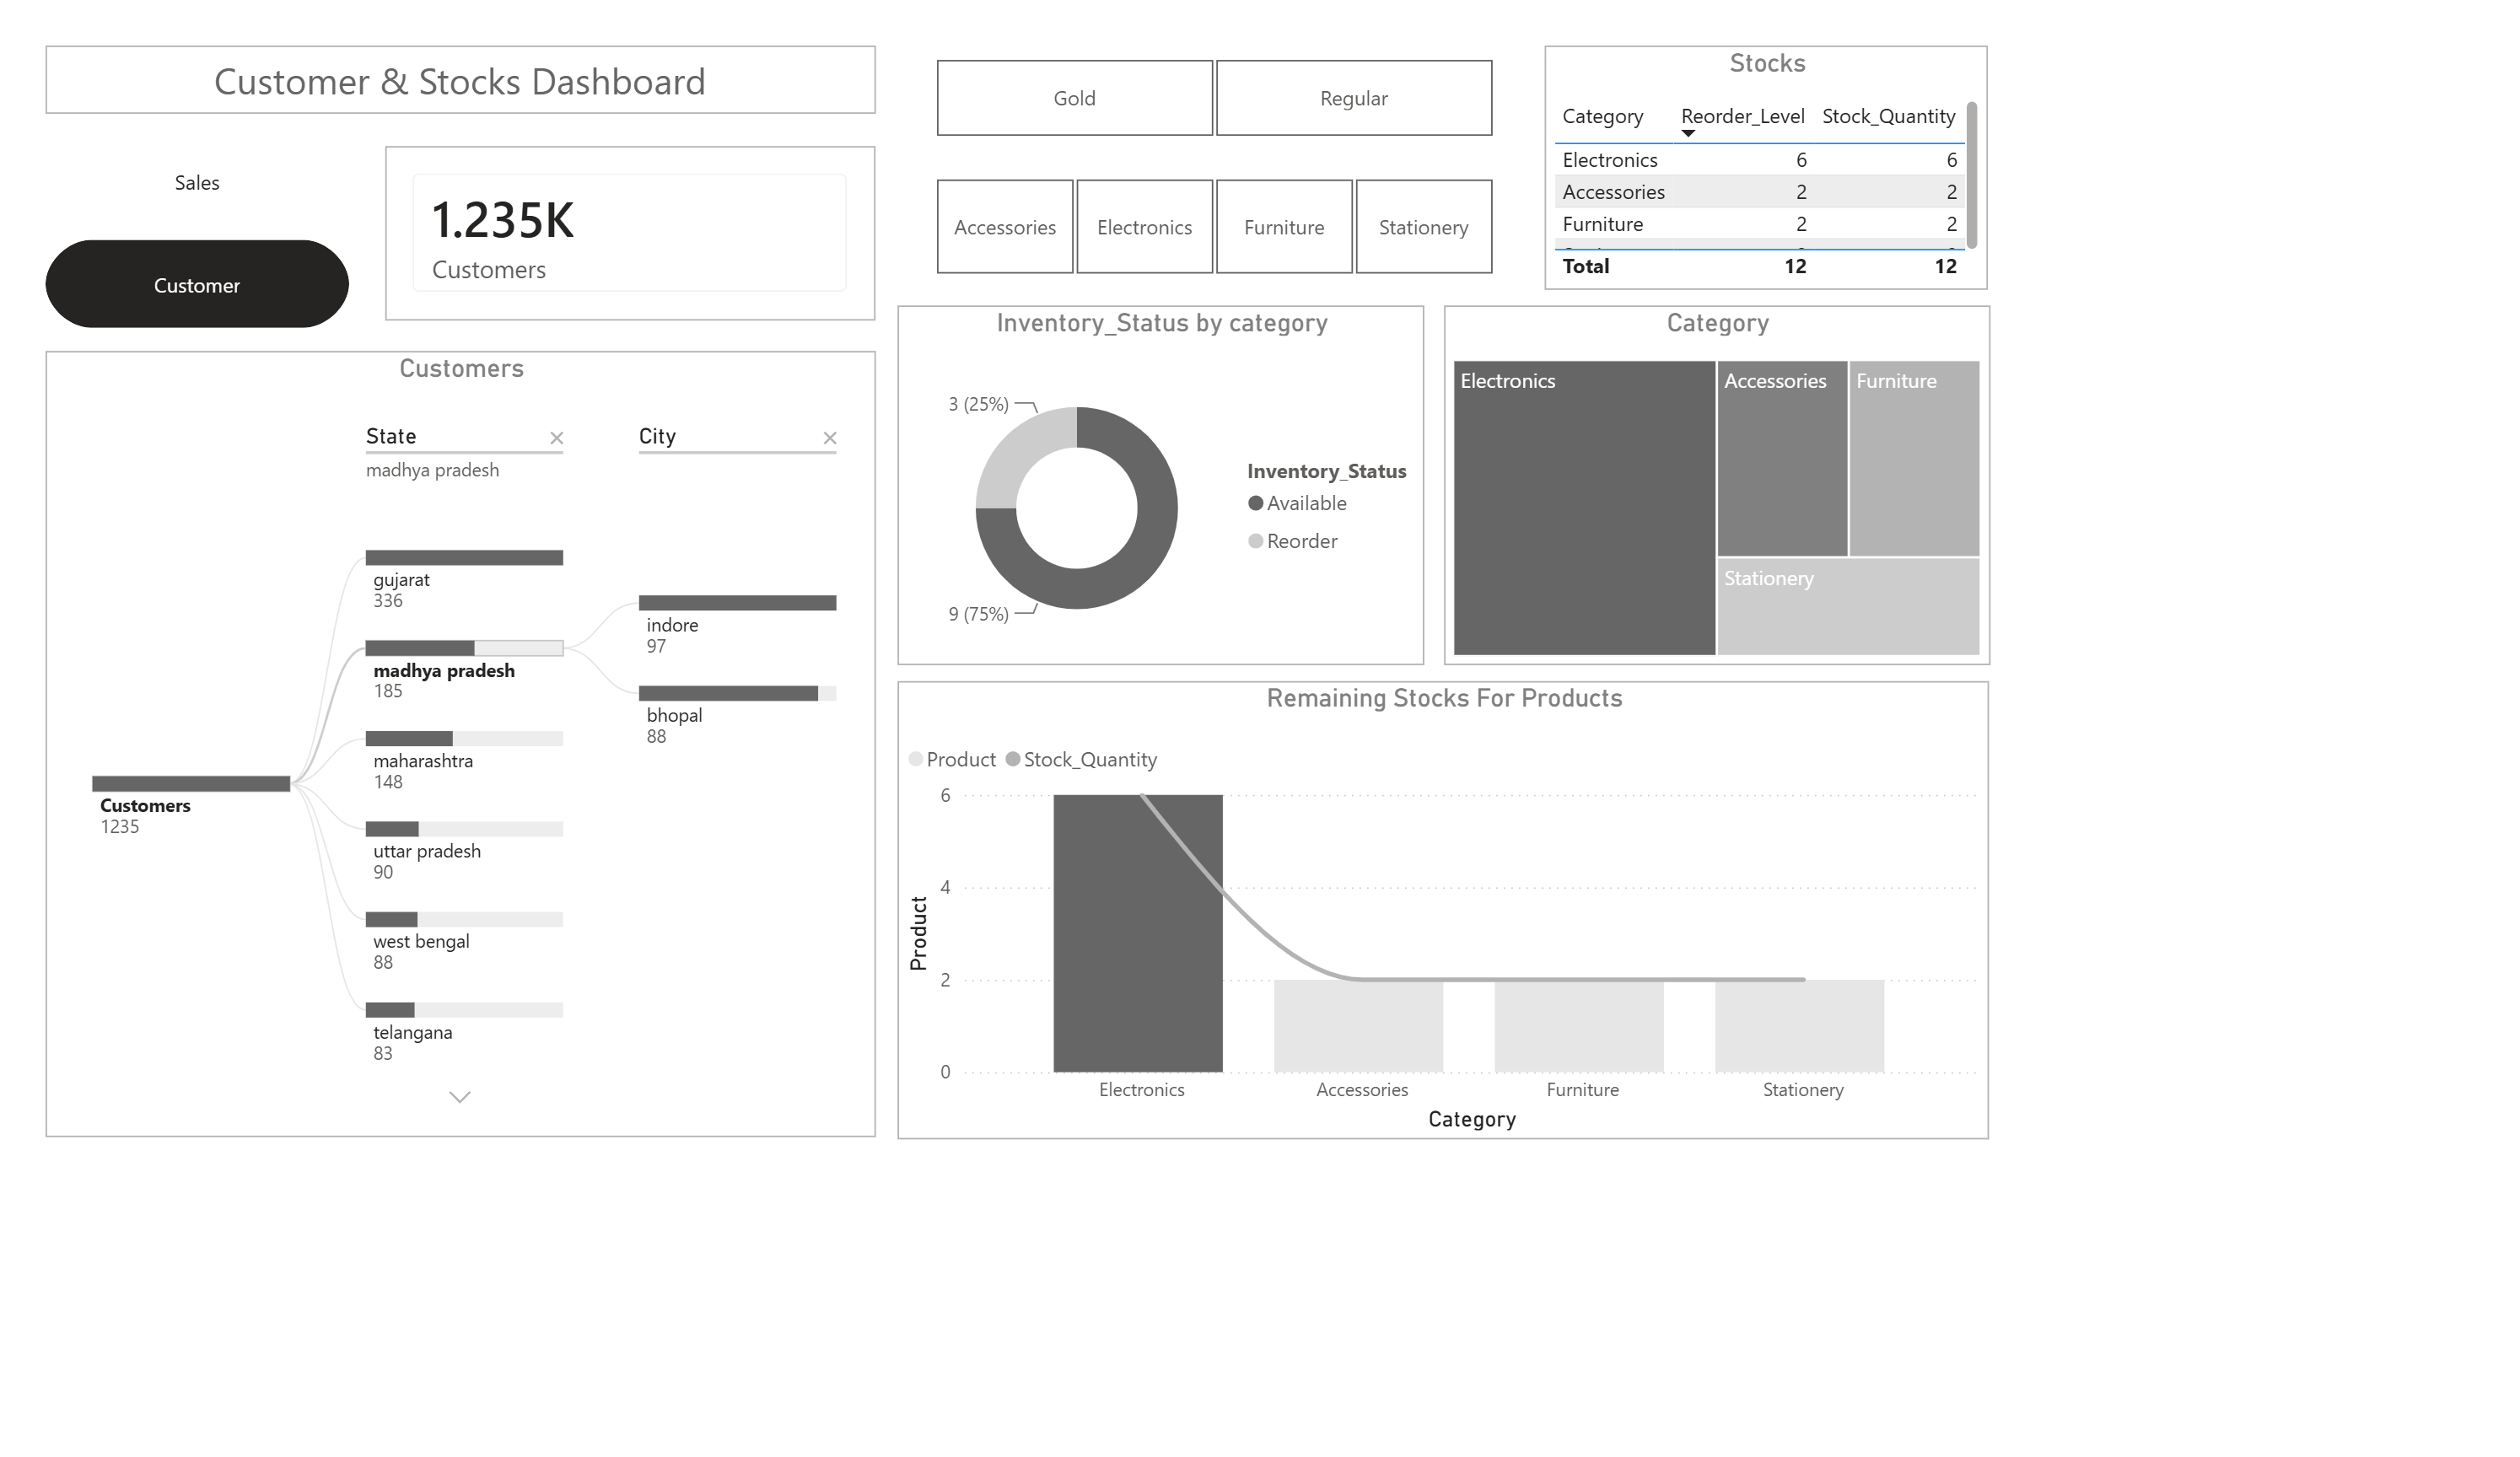

This screenshot's page, from the dashboard's own definition file:
{"tool":"powerbi","page":{"name":"Customer","canvas":[1280,720],"ordinal":1},"visuals":[{"type":"textbox","box":[0,0,546.6,45.2],"z":0},{"type":"pageNavigator","box":[0,60,200,126.2],"z":1000},{"type":"decompositionTreeVisual","title":"Customers","fields":{"ExplainBy":["Table1.State","Table1.City"],"Analyze":["CountNonNull(Table1.Customer_ID)"]},"box":[0,201.8,546.6,518.5],"z":2000},{"type":"donutChart","title":"Inventory_Status by category","fields":{"Category":["Table2.Inventory_Status"],"Y":["CountNonNull(Table2.Category)"]},"box":[561.3,171.2,347.3,237.2],"z":3000},{"type":"lineStackedColumnComboChart","title":"Remaining Stocks For Products","fields":{"Y2":["CountNonNull(Table2.Stock_Quantity)"],"Y":["CountNonNull(Table2.Product)"],"Category":["Table2.Category"]},"box":[561.3,418.2,719,302],"z":4000},{"type":"tableEx","title":"Stocks ","fields":{"Values":["Table2.Category","CountNonNull(Table2.Reorder_Level)","CountNonNull(Table2.Stock_Quantity)"]},"box":[988,0,292.3,161.4],"z":5000},{"type":"treemap","title":"Category","fields":{"Group":["Table2.Category"],"Values":["CountNonNull(Table2.Stock_Quantity)"]},"box":[920.8,171.2,359.5,237.2],"z":6000},{"type":"slicer","fields":{"Values":["Table1.Customer_Type"]},"box":[561.3,2.4,415.8,63.6],"z":7000},{"type":"slicer","fields":{"Values":["Table2.Category"]},"box":[561.3,80.7,415.8,75.8],"z":8000},{"type":"cardVisual","fields":{"Data":["CountNonNull(Table1.Customer_ID)"]},"box":[223.8,66,322.8,114.9],"z":9000}]}

Visuals, with their boxes in screenshot pixels (x1, y1, x2, y2), scaled from the page's 1280x720 canvas onto the 2520x1457 screenshot:
textbox: (left=0, top=0, right=1076, bottom=91)
pageNavigator: (left=0, top=121, right=394, bottom=377)
"Customers" decompositionTreeVisual: (left=0, top=408, right=1076, bottom=1456)
"Inventory_Status by category" donutChart: (left=1105, top=347, right=1789, bottom=826)
"Remaining Stocks For Products" lineStackedColumnComboChart: (left=1105, top=847, right=2519, bottom=1456)
"Stocks " tableEx: (left=1945, top=0, right=2519, bottom=326)
"Category" treemap: (left=1812, top=347, right=2519, bottom=826)
slicer - Table1.Customer_Type: (left=1105, top=5, right=1924, bottom=133)
slicer - Table2.Category: (left=1105, top=164, right=1924, bottom=317)
cardVisual - CountNonNull(Table1.Customer_ID): (left=440, top=133, right=1076, bottom=366)
